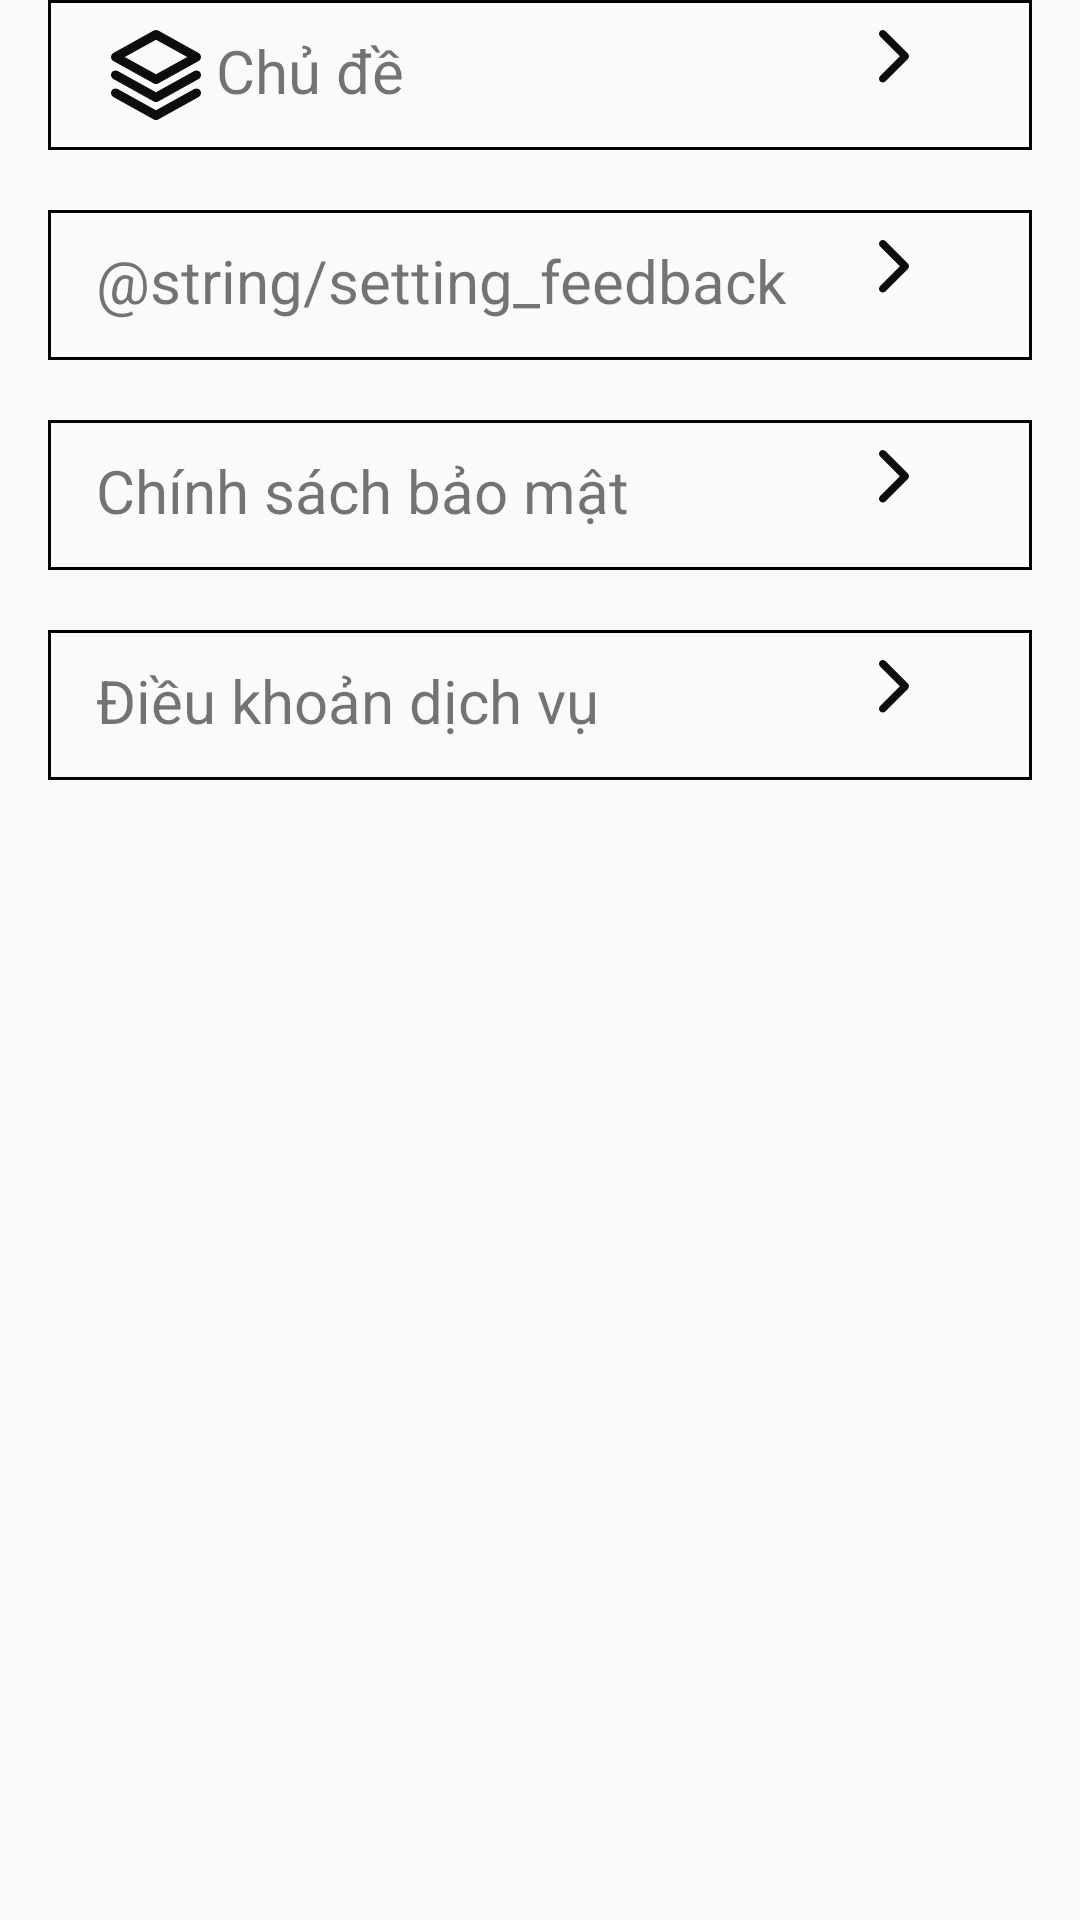

Locate icon controls on the screen. Image size 1080w x 1920h, boxes as box=[x1, y1, x2, y2].
arrow right: box=[879, 30, 909, 83], box=[879, 240, 909, 293], box=[879, 450, 909, 503], box=[879, 660, 909, 713]
topic: box=[111, 30, 201, 120]
